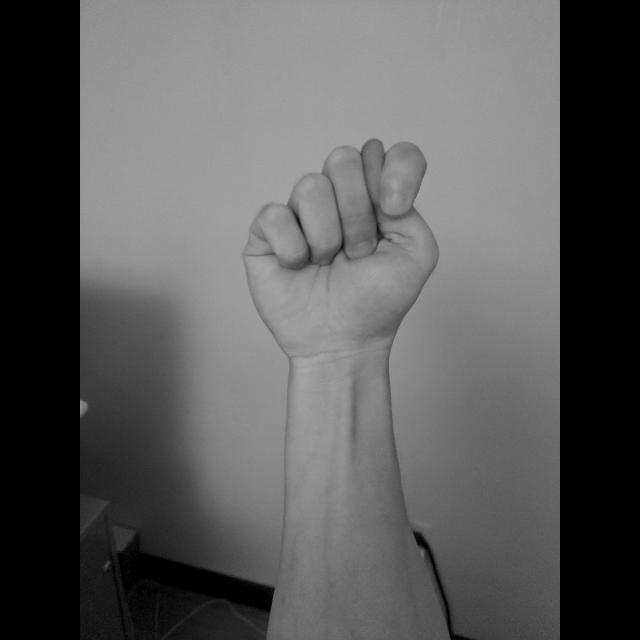T: (238, 134, 444, 370)
